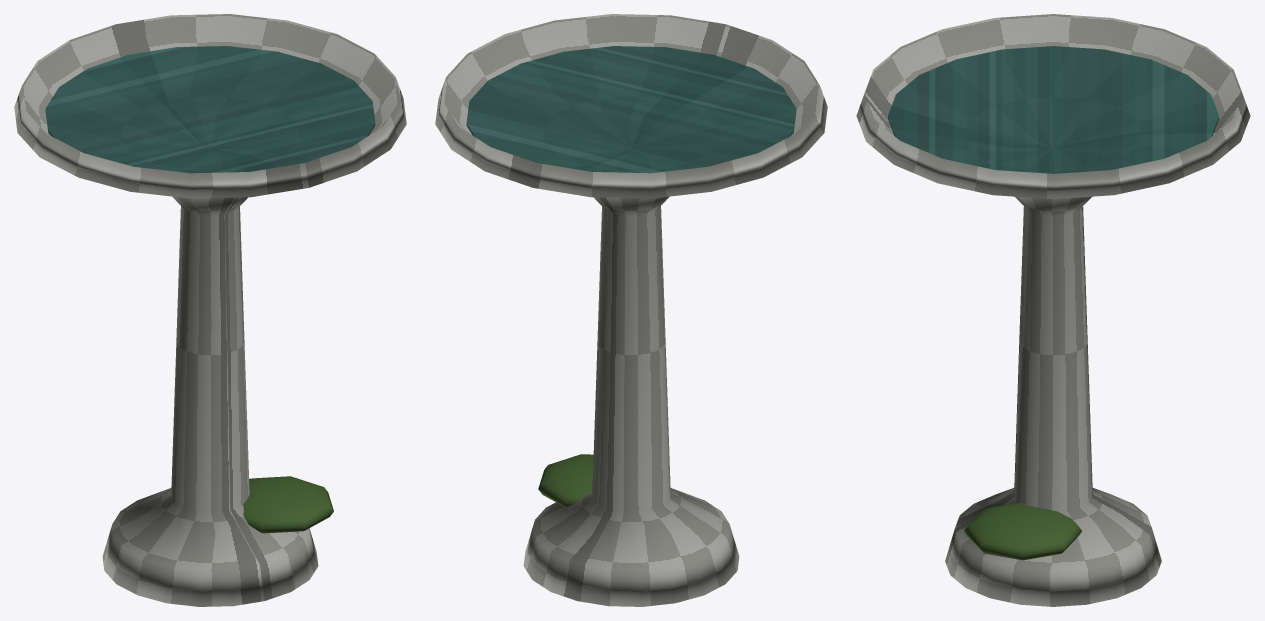
File: birdbath.glb
3 views of the same model, side by side, from view 1: azimuth 30°, elevation 25°; view 2: azimuth 150°, elevation 25°; view 3: azimuth 270°, elevation 25° (orthographic).
Parts seen in each view (by area): view 1: dyn_stone_variant, birdbath; view 2: dyn_stone_variant, birdbath; view 3: dyn_stone_variant, birdbath.
Part boxes in pixels (x1=…): dyn_stone_variant: x1=14, y1=14, x2=406, y2=606; birdbath: x1=45, y1=46, x2=375, y2=533; dyn_stone_variant: x1=435, y1=14, x2=827, y2=606; birdbath: x1=466, y1=46, x2=796, y2=506; dyn_stone_variant: x1=856, y1=14, x2=1250, y2=606; birdbath: x1=888, y1=46, x2=1218, y2=560.
Size of the model in its own units: 0.6502 by 0.8502 by 0.6502.
Materials: 3 (2 with a texture image).
